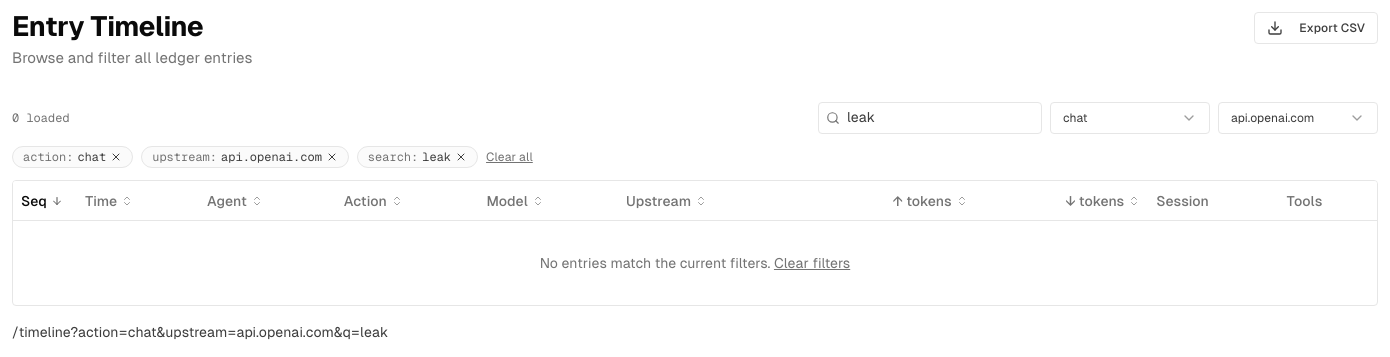
Scenario: TimelinePage — filters › reads filters from the URL and shows removable chips
The image size is (1390, 357).
Expected: the text "action:" is shown, [23, 149, 73, 165]
Expected: the text "upstream:" is shown, [152, 149, 217, 165]
Removing one chip only strips that param.
Click the button "action: chat". click: (73, 157)
box: [12, 146, 133, 168]
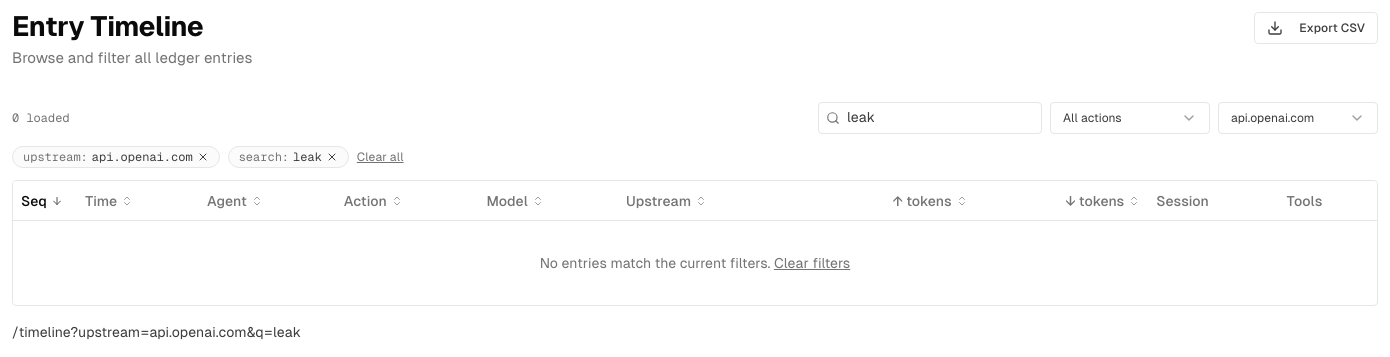
Now the text with test id "loc" reads "/timeline?upstream=api.openai.com&q=leak", box [12, 324, 301, 340]
